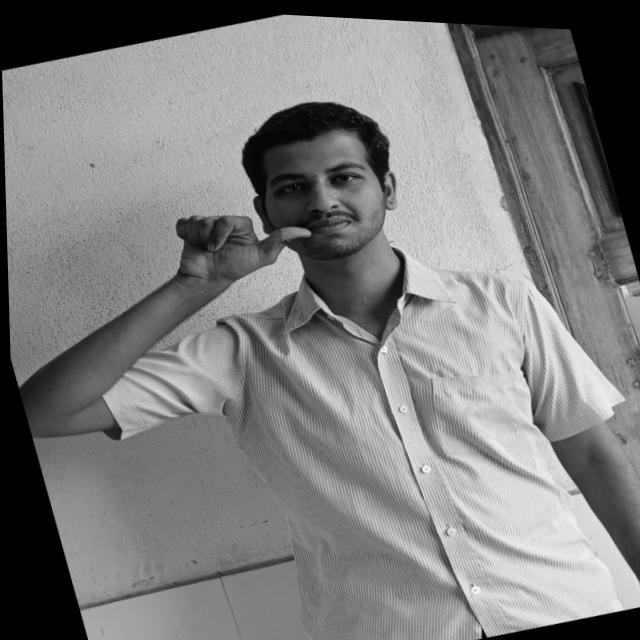Drink: (166, 184, 323, 301)
